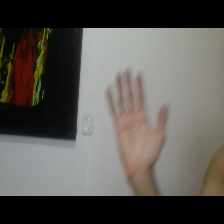left: (97, 61, 179, 174)
